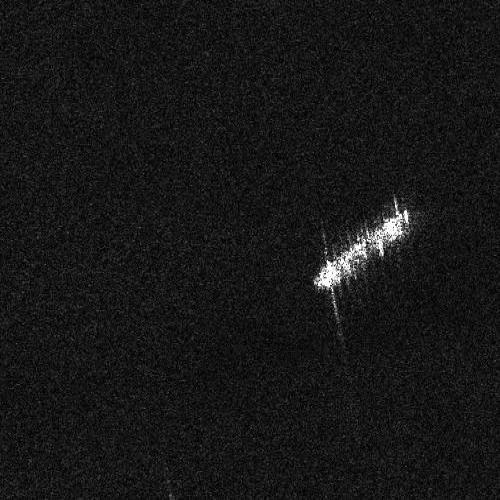ship: (313, 209, 410, 290)
